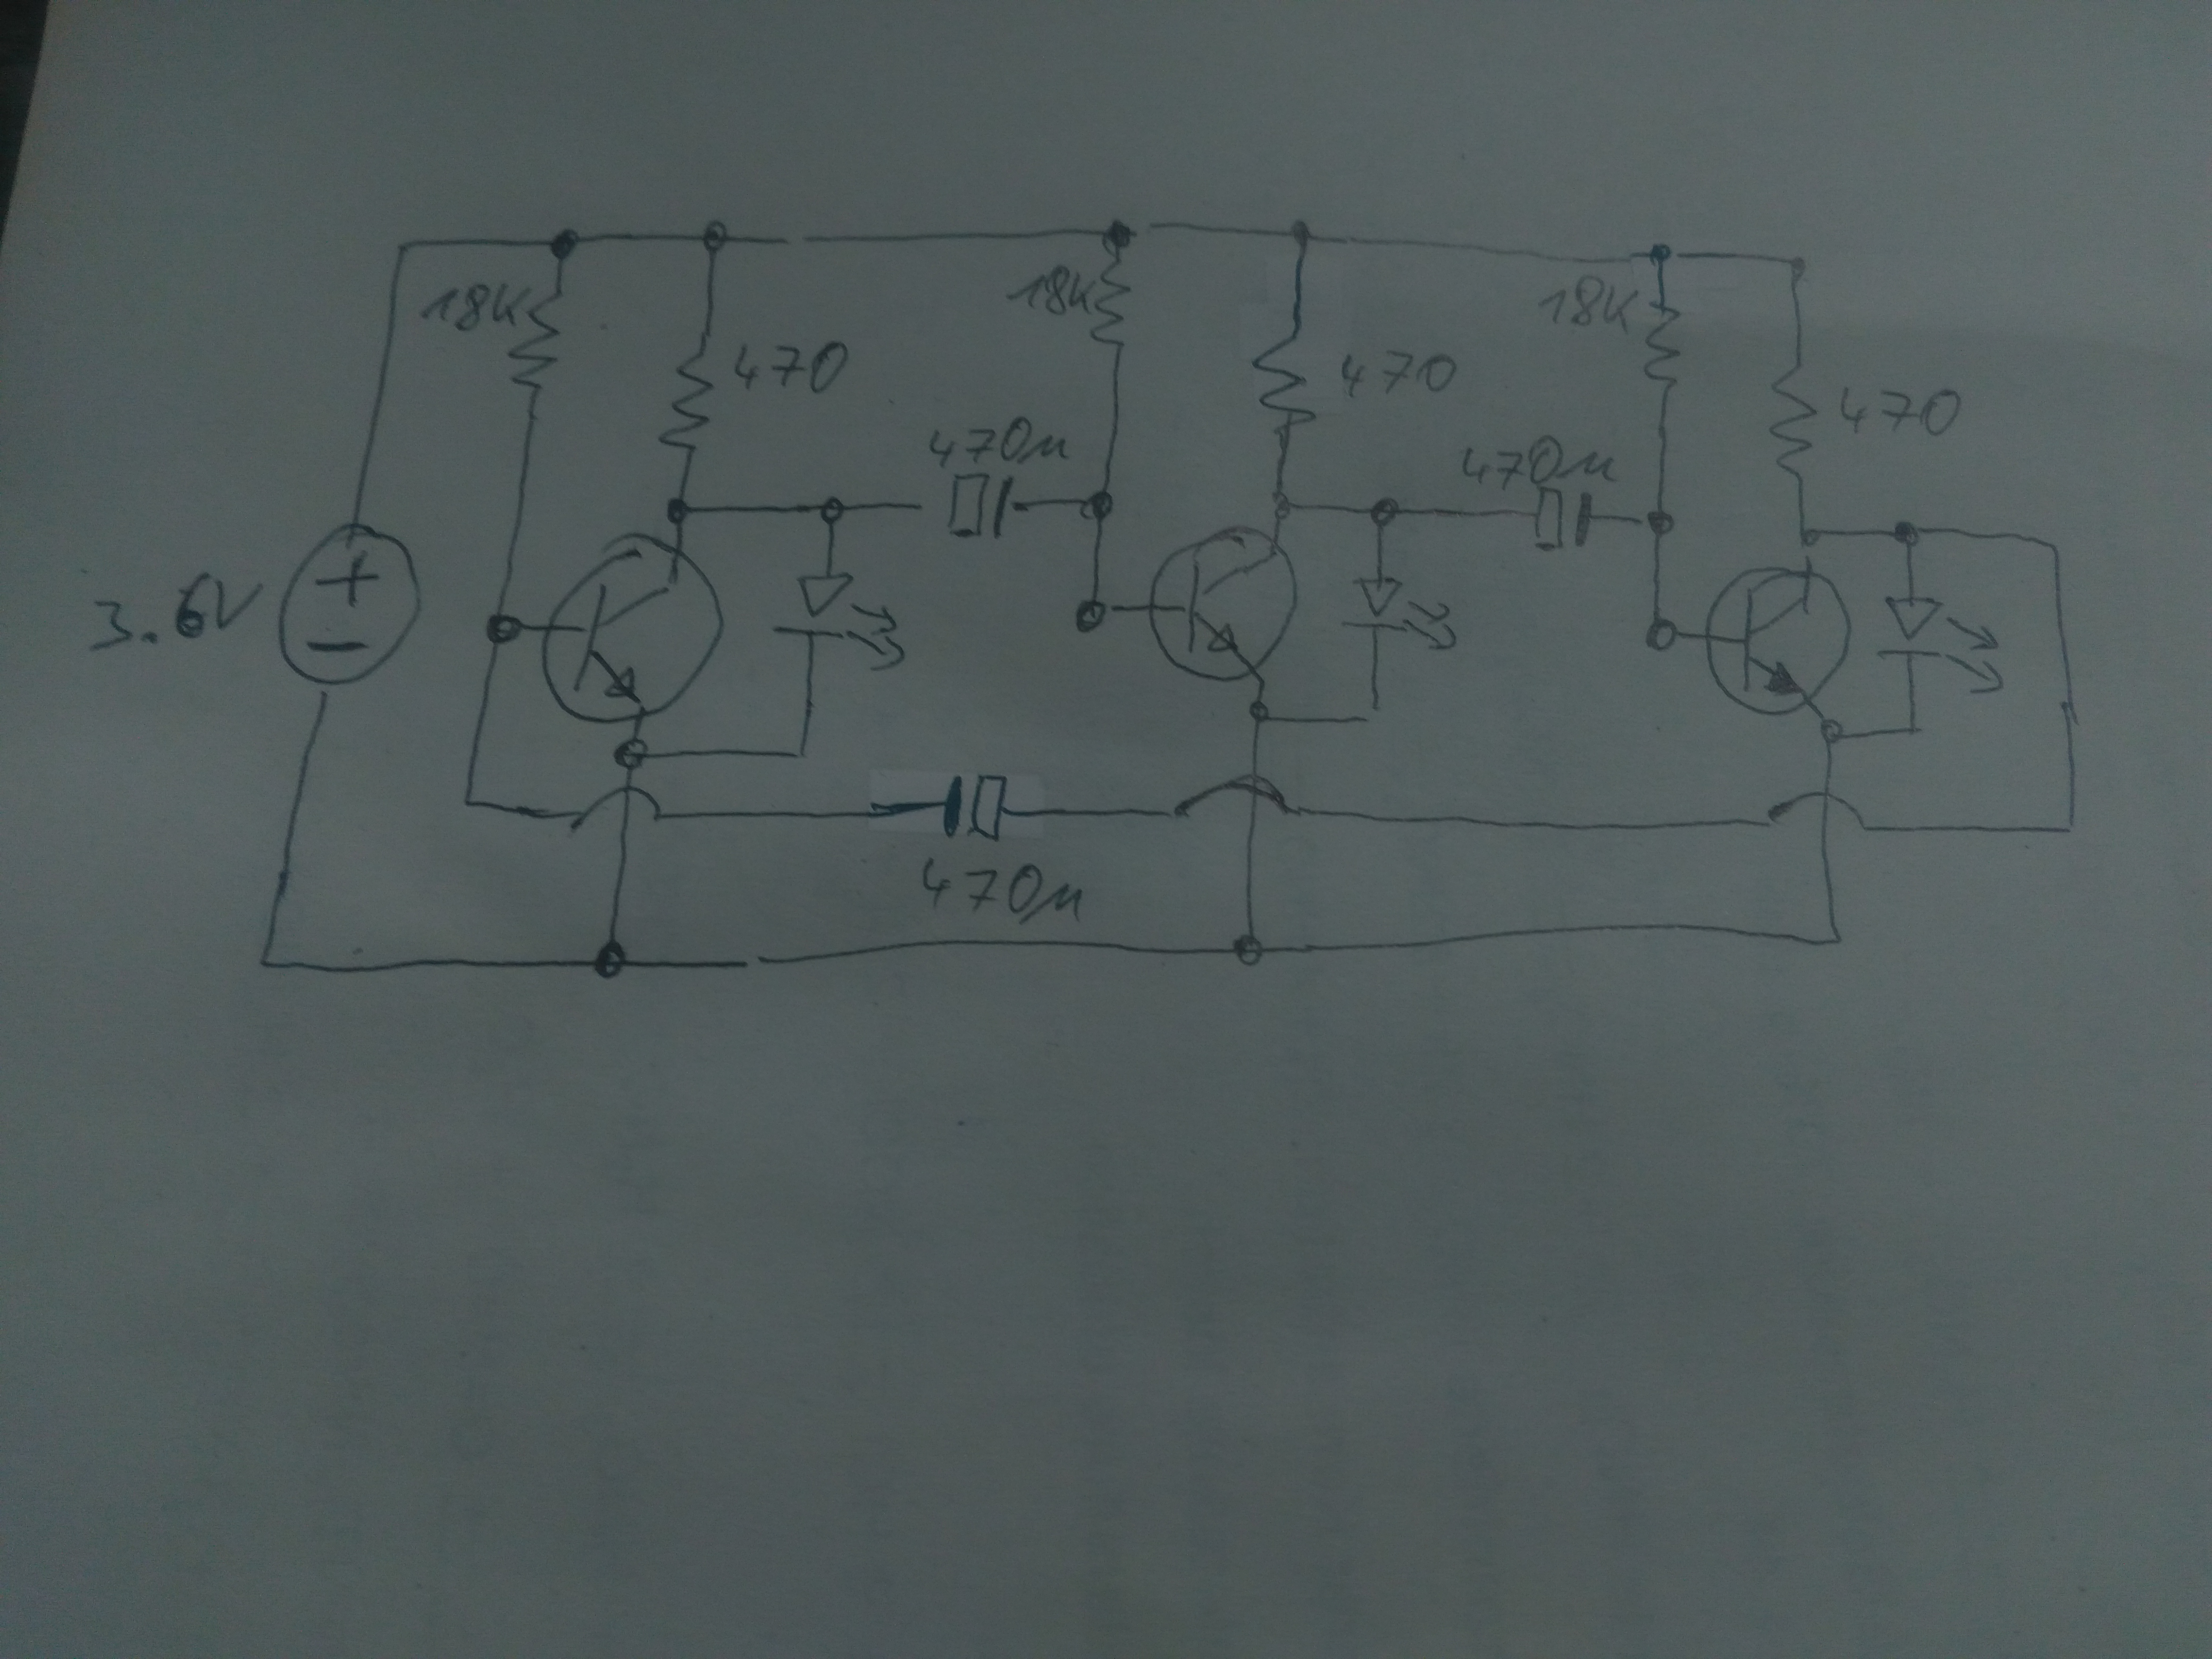capacitor.polarized: (944, 469, 1017, 544), (941, 770, 1008, 845), (1531, 481, 1594, 556)
crossover: (1167, 769, 1305, 826), (1759, 789, 1876, 836), (570, 782, 667, 831)
diode.light_emitting: (768, 568, 909, 673), (1874, 594, 2006, 699), (1339, 575, 1461, 657)
junction: (585, 932, 637, 986), (246, 934, 296, 979), (1226, 927, 1271, 974), (610, 730, 651, 772), (1069, 594, 1109, 636), (482, 608, 524, 647), (1644, 617, 1683, 657), (451, 782, 489, 819), (1101, 216, 1139, 251), (1082, 486, 1118, 521), (698, 216, 732, 254), (1813, 714, 1848, 749), (1266, 486, 1299, 523), (1367, 495, 1402, 528), (1642, 505, 1676, 540), (1886, 518, 1923, 549), (660, 495, 693, 528), (815, 493, 848, 526), (786, 735, 819, 769), (547, 228, 580, 260), (1818, 927, 1853, 957), (1287, 216, 1318, 246), (1244, 695, 1273, 727), (1796, 521, 1825, 551), (2040, 532, 2069, 561), (1898, 716, 1928, 744), (1357, 701, 1383, 732), (1648, 240, 1674, 267), (2057, 816, 2085, 840), (394, 235, 416, 260), (1785, 254, 1808, 279)
resistor: (1249, 328, 1318, 439), (1763, 359, 1817, 486), (657, 354, 721, 458), (505, 288, 566, 396), (1087, 253, 1136, 354), (1641, 295, 1684, 394)
text: (85, 566, 266, 657), (918, 854, 1087, 931), (1458, 432, 1622, 495), (927, 413, 1071, 467), (726, 340, 855, 397), (1534, 272, 1646, 336), (1836, 383, 1963, 439), (1334, 347, 1460, 401), (420, 281, 531, 333), (1001, 261, 1096, 319)
transistor: (535, 525, 730, 732), (1143, 523, 1303, 685), (1703, 565, 1857, 718)
voltage.dc: (272, 521, 434, 694)
